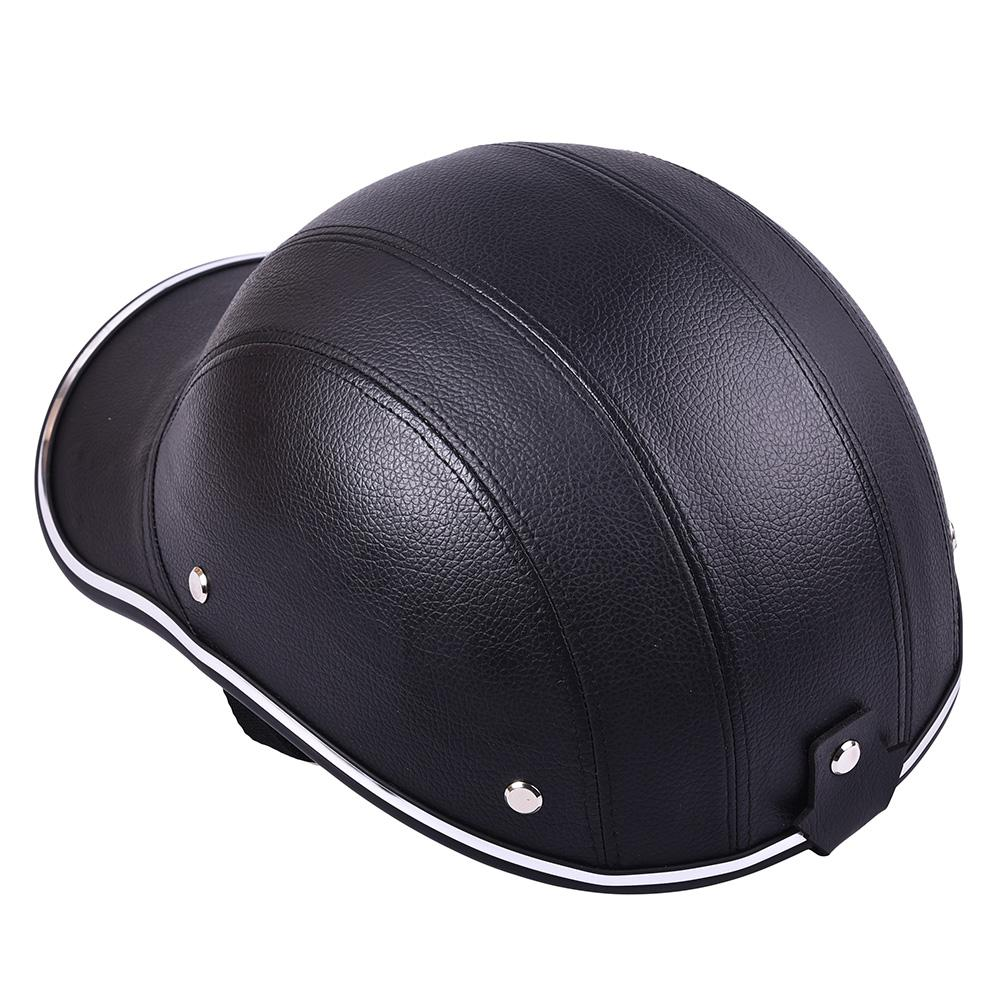helmet: (33, 143, 964, 895)
